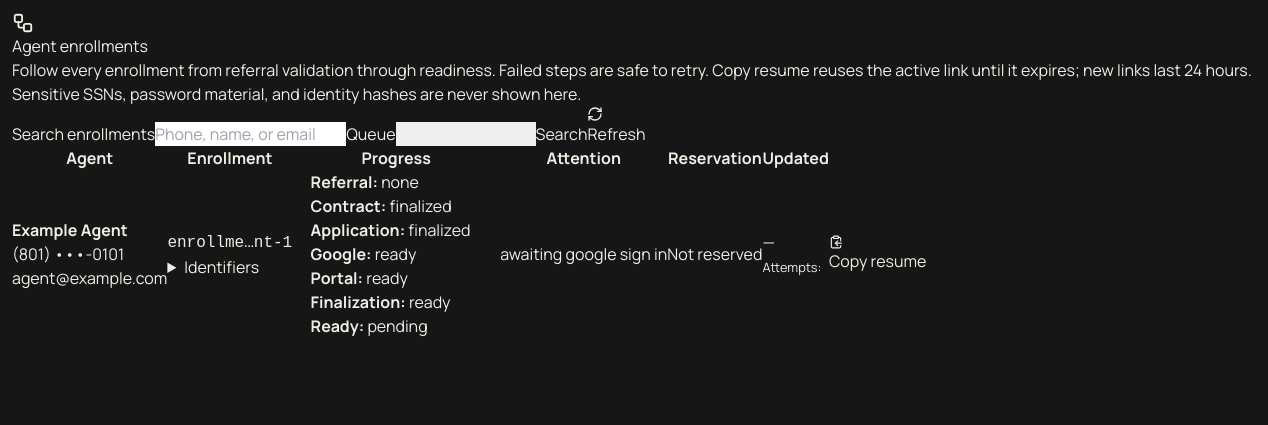
Test: does not block enrollment actions while clipboard permission remains pending
Click the button "Copy resume": (878, 254) [829, 235, 926, 273]
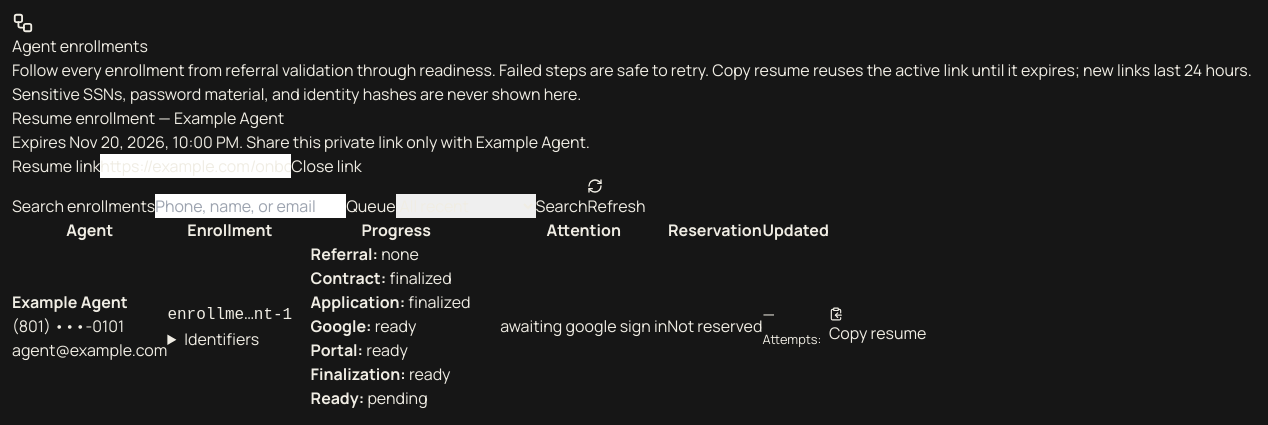
Expected: the button "Copy resume" is enabled, [829, 307, 926, 345]
Expected: the field labelled "Resume link" holds "https://example.com/onboarding/success/enrollment-1?token=test-token", [100, 154, 291, 178]
